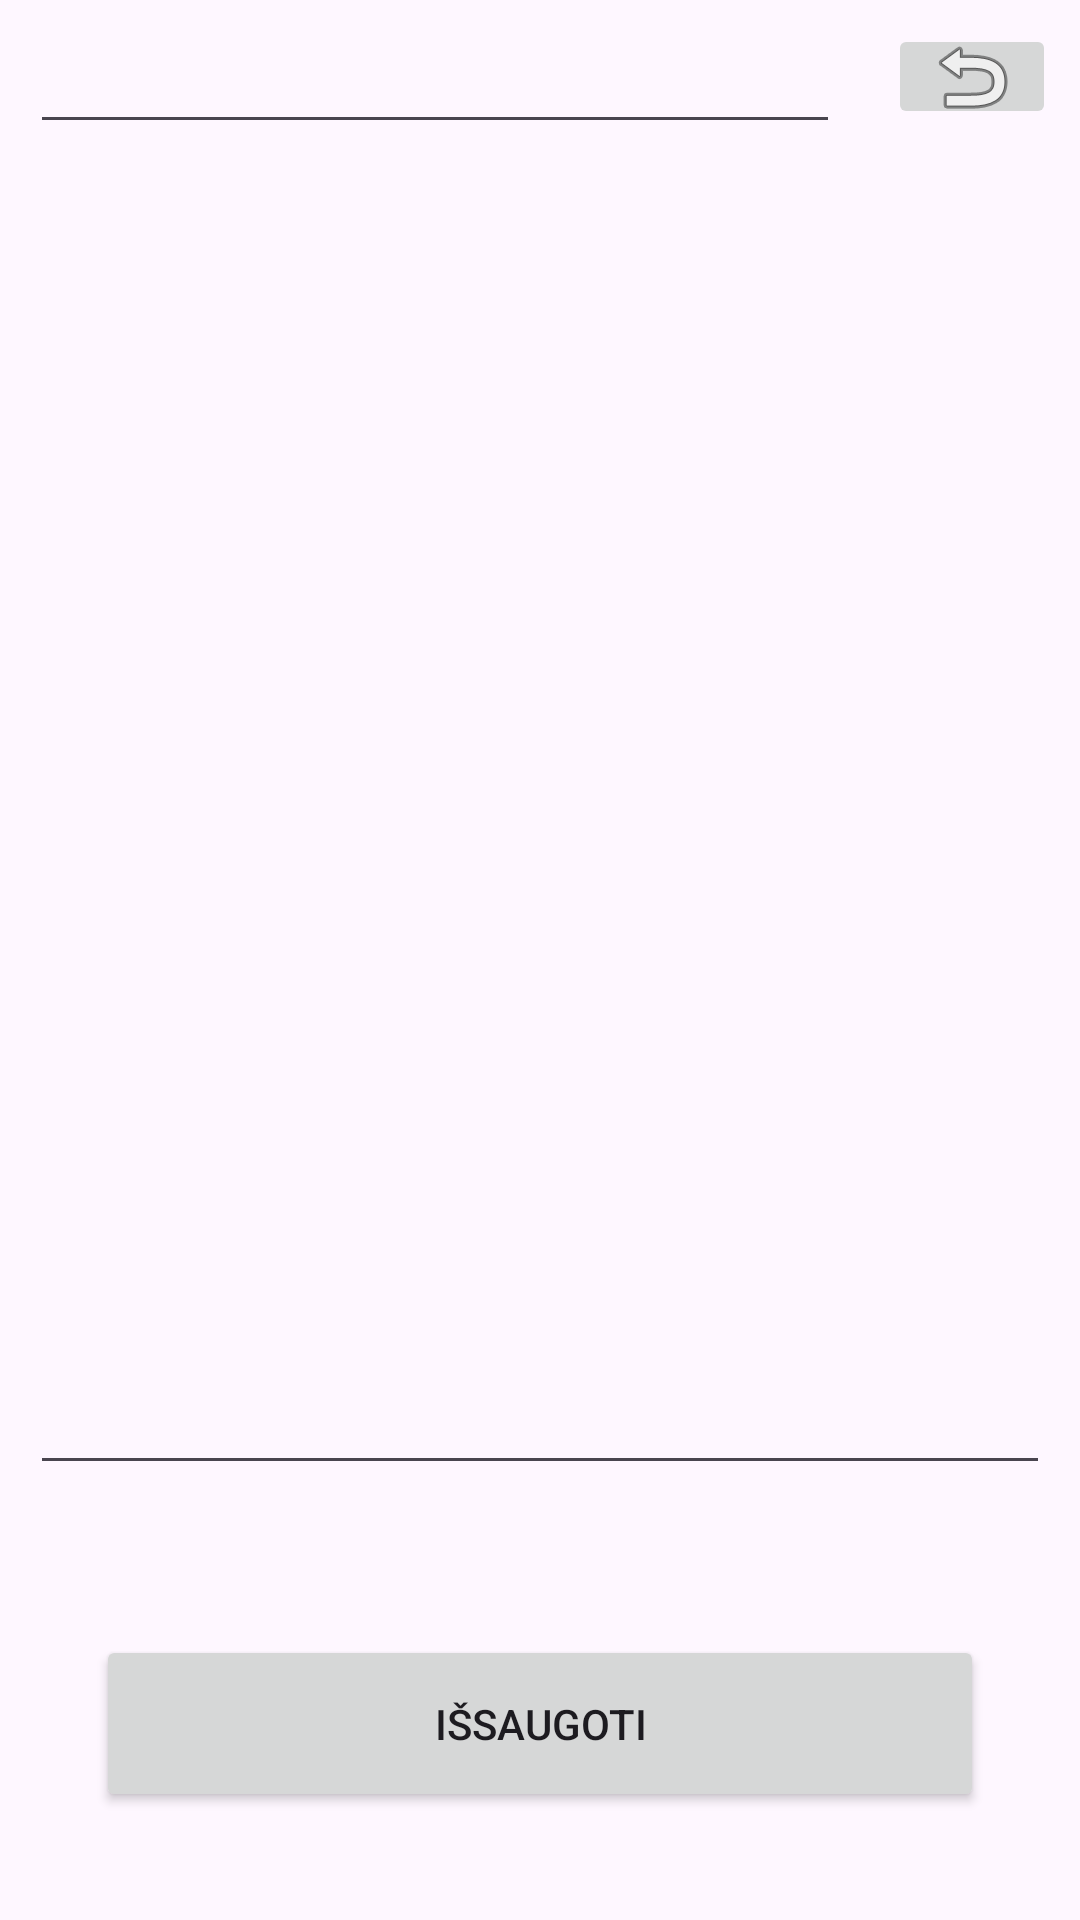

Screen size 1080px×1920px. Icon name, then its center in pixels as [x,y]:
revert: [972,76]
